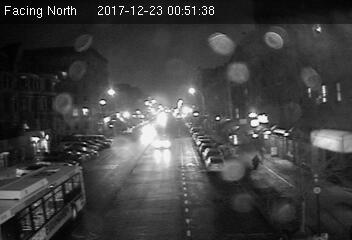car: (206, 155, 226, 174), (154, 136, 173, 150)
